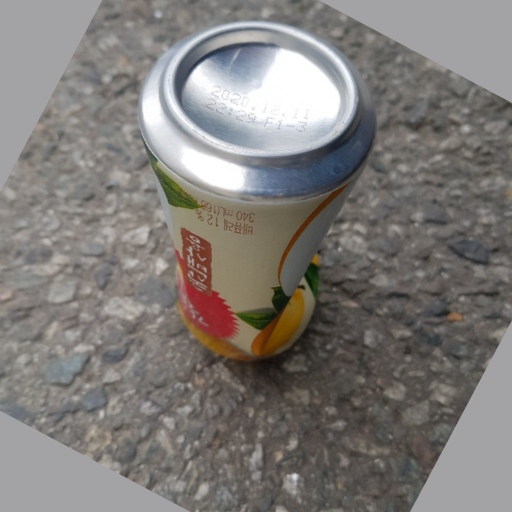Metal_0: (139, 19, 375, 361)
